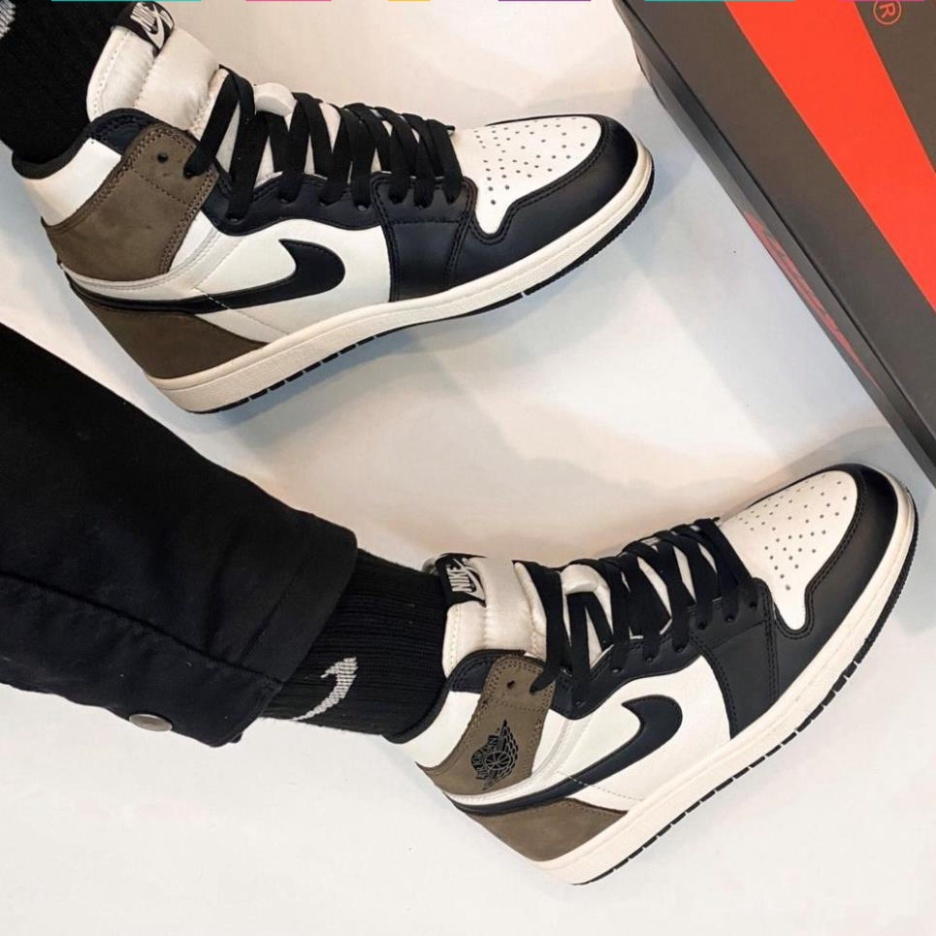sneakers: (12, 3, 654, 417), (387, 463, 920, 889)
